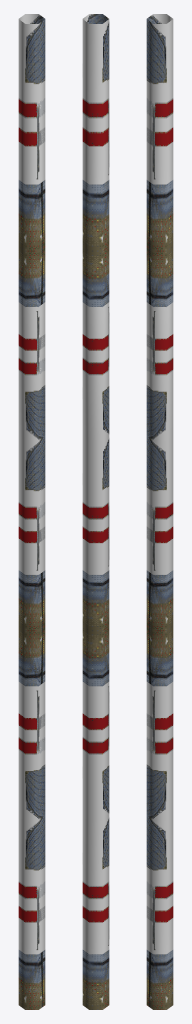
The model's file is Pilaar.fbx.
3 views of the same model, side by side, from view 1: azimuth 90°, elevation 25°; view 2: azimuth 150°, elevation 25°; view 3: azimuth 270°, elevation 25° (orthographic).
Parts seen in each view (by area): view 1: Cylinder.311; view 2: Cylinder.311; view 3: Cylinder.311.
Part boxes in pixels (x1,y1,x2,y2): Cylinder.311: (18,14,45,1009); Cylinder.311: (82,14,109,1009); Cylinder.311: (146,14,173,1009).
Bounding box in the file's own units: 56.86 × 2652 × 65.66.
